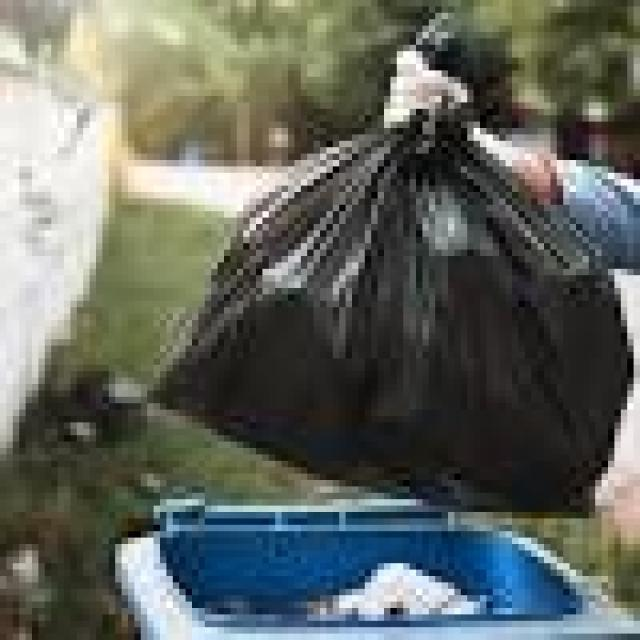garbage: (166, 84, 634, 518), (283, 550, 488, 632)
